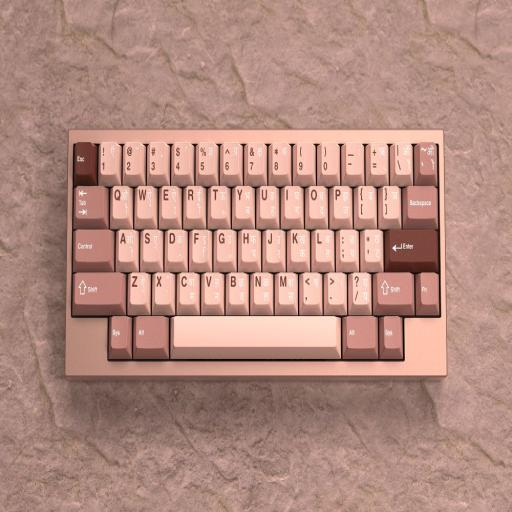KEYBOARD-2: (68, 123, 448, 379)
